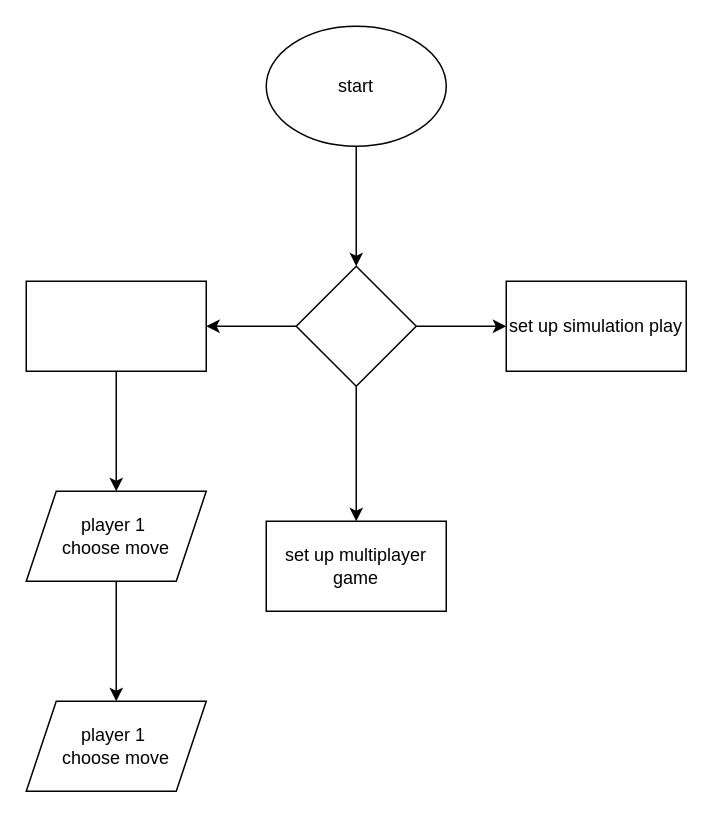
Some shapes in this 713 by 818 pixel diagram are drawn without their labels. Each missing label, with the centre of its shape:
"select gamemode" belongs at point (355, 325).
"set up multi" belongs at point (115, 325).
